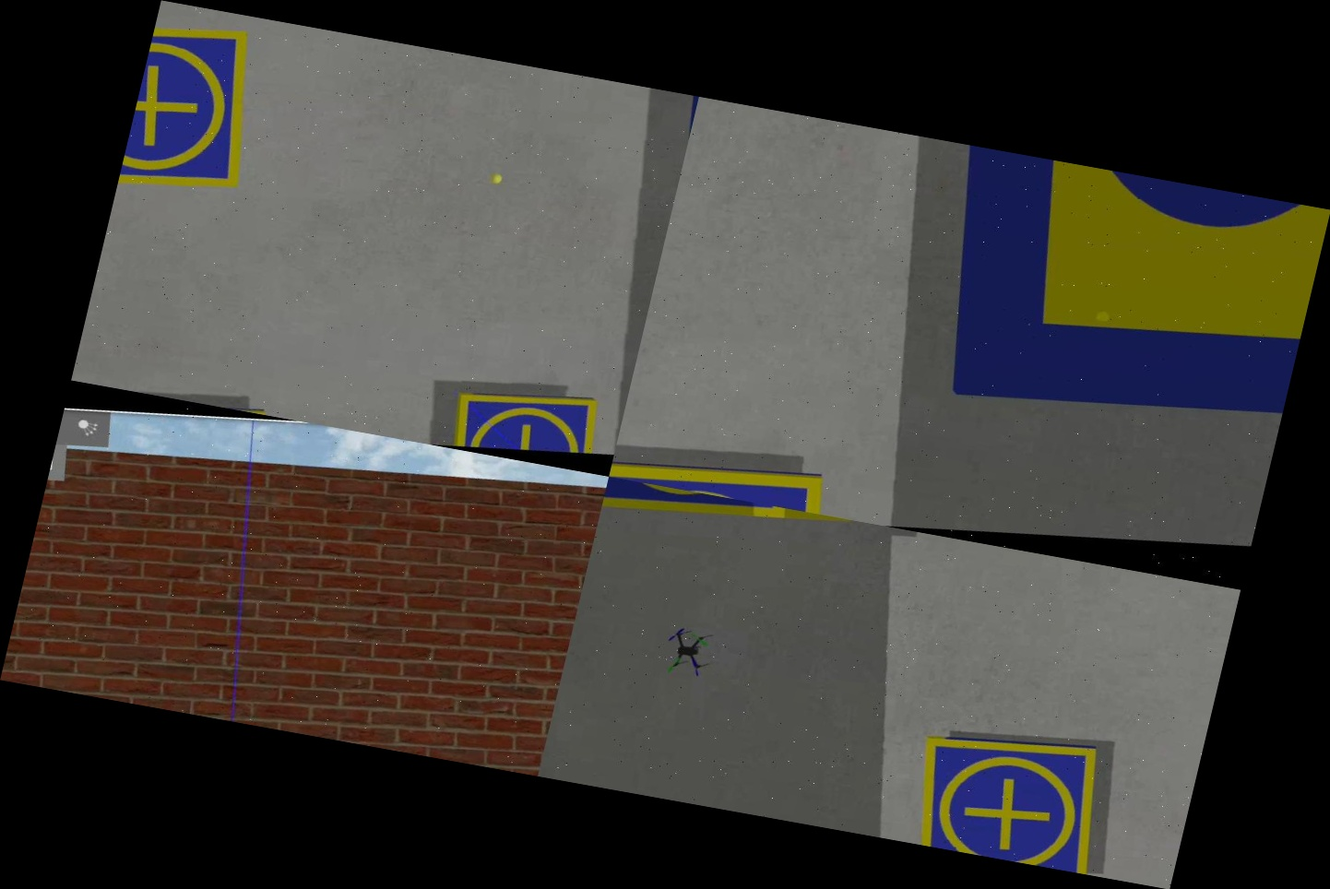large_base: (885, 140, 1330, 448)
small_base: (903, 717, 1122, 875), (115, 14, 277, 213), (609, 440, 827, 515), (442, 373, 607, 471)
